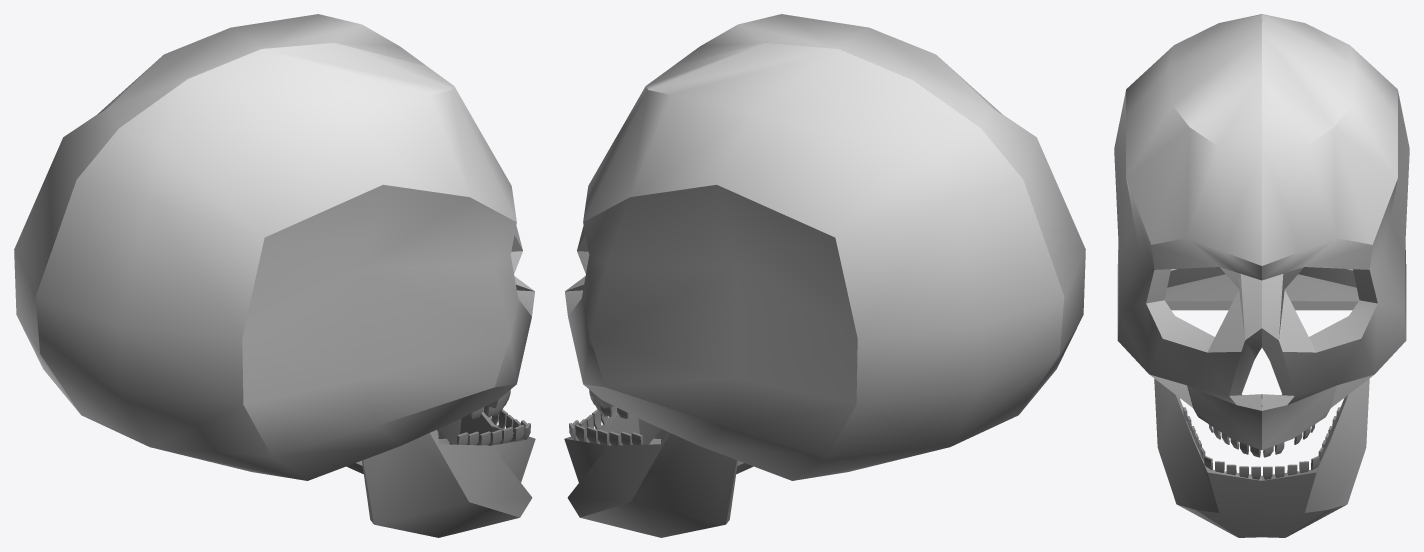
Rendered from Cranio humano.fbx.
3 views of the same model, side by side, from view 1: azimuth 30°, elevation 25°; view 2: azimuth 150°, elevation 25°; view 3: azimuth 270°, elevation 25° (orthographic). The views are drawn at different scales.
Parts seen in each view (by area): view 1: Mandibula; view 2: Mandibula; view 3: Mandibula.
Part boxes in pixels (x1,y1,x2,y2): Mandibula: [14, 14, 535, 537]; Mandibula: [564, 14, 1085, 537]; Mandibula: [1114, 14, 1409, 537].
Size of the model in its own units: 136 by 138 by 88.97.
Materials: 1 (1 with a texture image).
